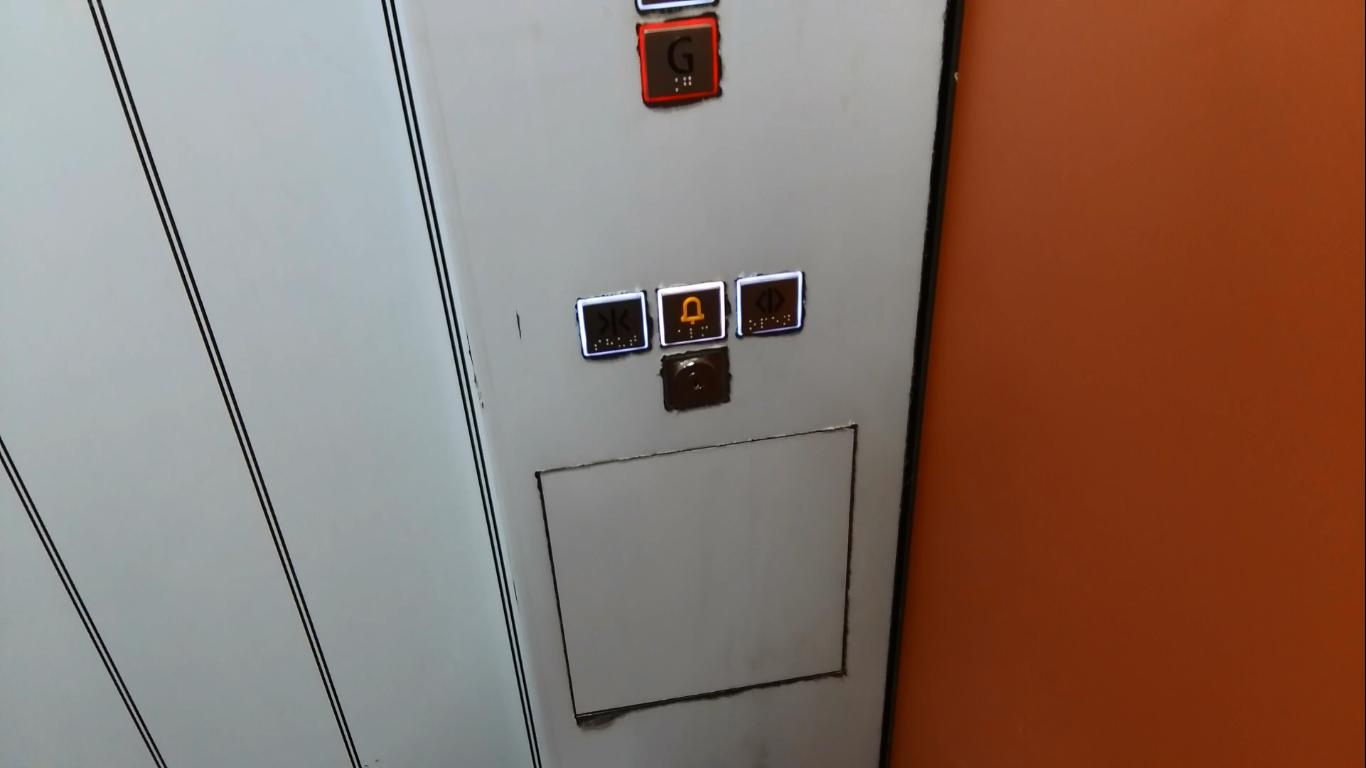G: (635, 12, 725, 113)
alarm: (657, 279, 728, 349)
bt_keyhole: (658, 350, 731, 413)
close: (571, 288, 651, 361)
open: (735, 270, 806, 342)
